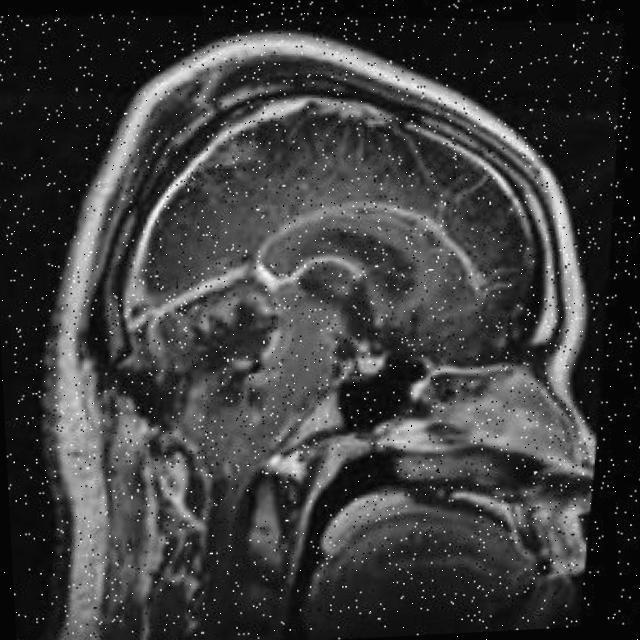CN: (243, 212, 455, 308)
